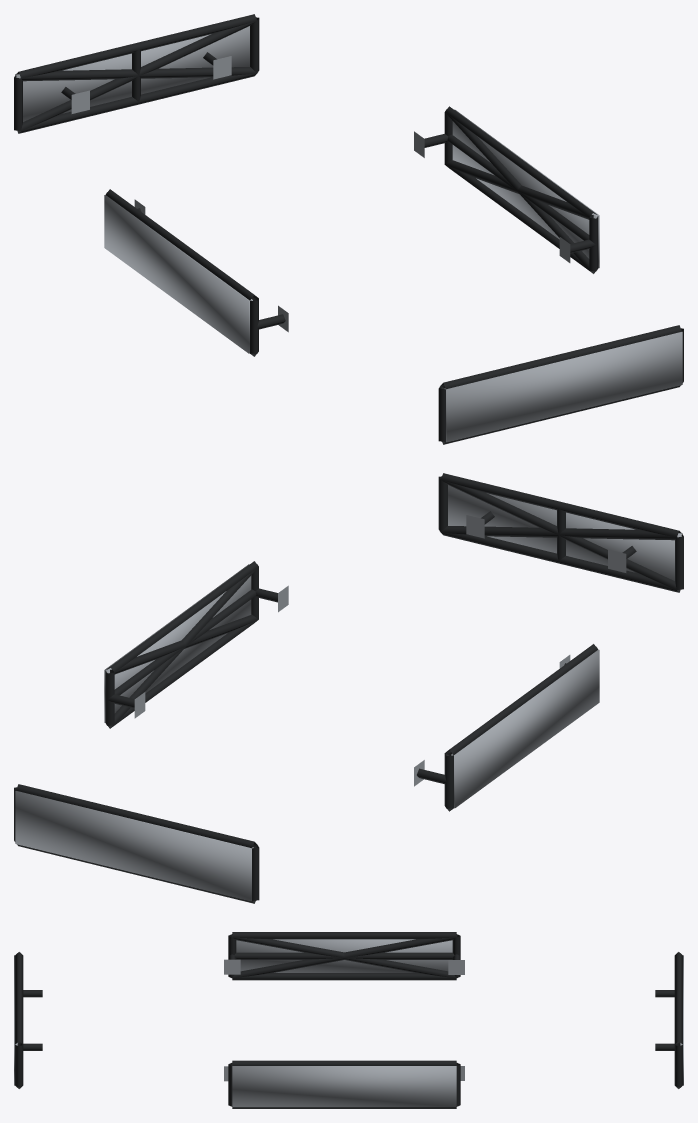
The model's file is corsalto_pimenta_protecao.glb.
3 renders of one model, top to bottom at view 1: azimuth 30°, elevation 25°; view 2: azimuth 150°, elevation 25°; view 3: azimuth 270°, elevation 25°, orthographic. The views are drawn at different scales.
Parts seen in each view (by area): view 1: Protection_front_Level3_Details, Protection_left_Level3_Details, Protection_rear_Level1_Details, Protection_rear_Level3_Details, Protection_right_Level1_Details, Protection_rear_Level2_Details, Protection_right_Level2_Details, Protection_right_Level3_Details, Protection_front_Level1_Details, Protection_left_Level1_Details; view 2: Protection_rear_Level3_Details, Protection_left_Level3_Details, Protection_front_Level1_Details, Protection_front_Level3_Details, Protection_right_Level1_Details, Protection_front_Level2_Details, Protection_right_Level2_Details, Protection_right_Level3_Details, Protection_rear_Level1_Details, Protection_left_Level1_Details; view 3: Protection_right_Level3_Details, Protection_left_Level2_Details, Protection_left_Level1_Details, Protection_left_Level3_Details, Protection_right_Level1_Details, Protection_rear_Level1_Details, Protection_front_Level1_Details.
Part boxes in pixels (box(x1,y1,x2,y2)): Protection_front_Level3_Details: box(444, 332, 682, 442); Protection_left_Level3_Details: box(104, 195, 252, 353); Protection_rear_Level1_Details: box(14, 14, 259, 133); Protection_rear_Level3_Details: box(15, 26, 249, 121); Protection_right_Level1_Details: box(414, 106, 598, 273); Protection_rear_Level2_Details: box(16, 21, 256, 132); Protection_right_Level2_Details: box(445, 112, 596, 273); Protection_right_Level3_Details: box(452, 109, 599, 268); Protection_front_Level1_Details: box(438, 325, 683, 444); Protection_left_Level1_Details: box(105, 189, 288, 356); Protection_rear_Level3_Details: box(15, 791, 253, 901); Protection_left_Level3_Details: box(451, 649, 599, 808); Protection_front_Level1_Details: box(438, 473, 683, 592); Protection_front_Level3_Details: box(448, 485, 682, 580); Protection_right_Level1_Details: box(105, 561, 288, 728); Protection_front_Level2_Details: box(441, 480, 681, 591); Protection_right_Level2_Details: box(106, 568, 258, 728); Protection_right_Level3_Details: box(104, 564, 251, 722); Protection_rear_Level1_Details: box(14, 784, 259, 903); Protection_left_Level1_Details: box(414, 644, 597, 811); Protection_right_Level3_Details: box(232, 1066, 456, 1107); Protection_left_Level2_Details: box(232, 935, 456, 978); Protection_left_Level1_Details: box(224, 932, 464, 980); Protection_left_Level3_Details: box(236, 939, 452, 972); Protection_right_Level1_Details: box(224, 1060, 464, 1108); Protection_rear_Level1_Details: box(655, 952, 682, 1088); Protection_front_Level1_Details: box(15, 952, 42, 1088).
Size of the model in its own units: 2.09 by 0.354 by 4.45.
1 material, 1 textured.
